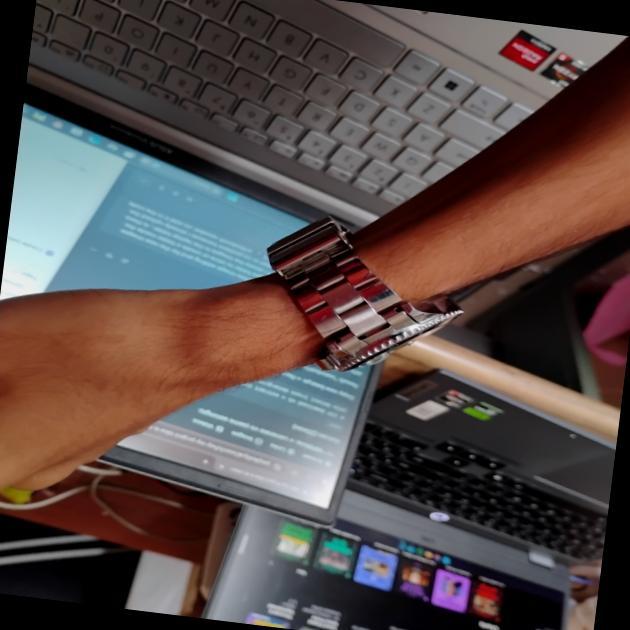wristwatch: (215, 196, 482, 400)
